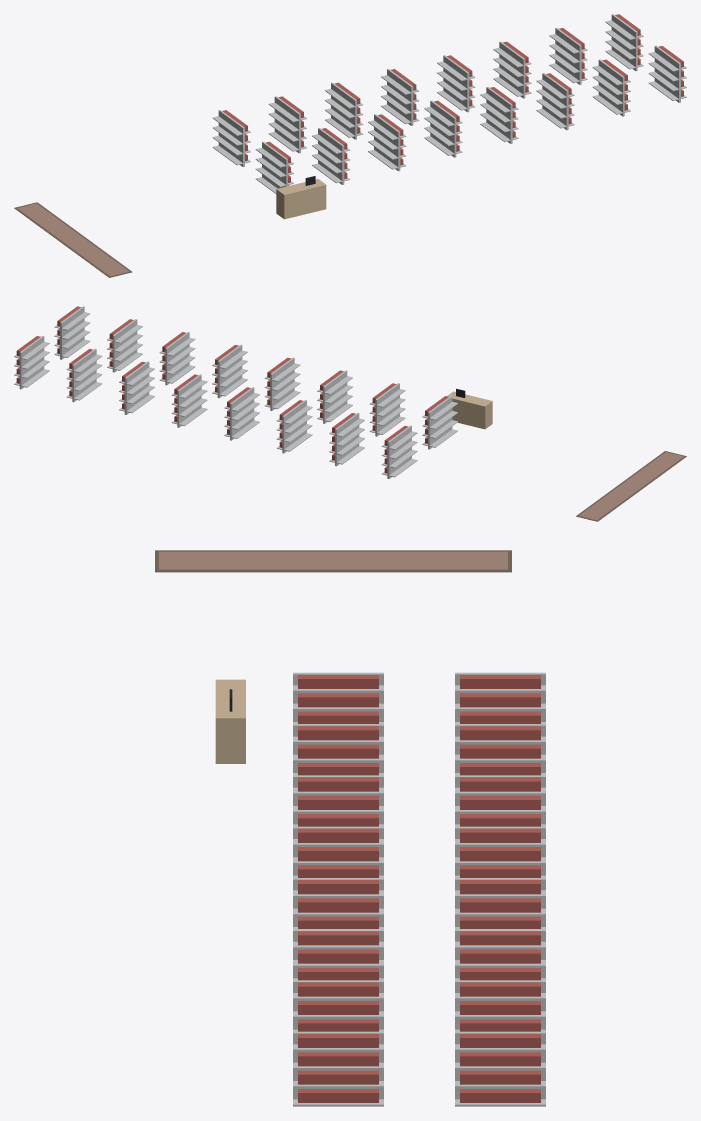
The model's file is fine-s0.glb.
3 renders of one model, top to bottom at view 1: azimuth 30°, elevation 25°; view 2: azimuth 150°, elevation 25°; view 3: azimuth 270°, elevation 25°, orthographic. The views are drawn at different scales.
Parts seen in each view (by area): view 1: soft-s0, shop-counter.000, shelf.014, shelf.007, shelf.010, shelf.005, shelf.011, shelf.008, shelf.013, shelf.002, shelf.004, shelf.009 (+6 smaller); view 2: soft-s0, shelf.013, shelf.014, shelf.008, shelf.007, shelf.000, shelf.003, shelf.004, shelf.012, shelf.001, shelf.015, shelf.002 (+6 smaller); view 3: soft-s0, shelf.014, shelf.015, shelf.000, shelf.001, shelf.002, shelf.003, shelf.004, shelf.005, shelf.006, shelf.007, shelf.010 (+6 smaller).
Part boxes in pixels (x1,y1,x2,y2): soft-s0: (14, 202, 132, 277); shop-counter.000: (276, 176, 326, 219); shelf.014: (605, 14, 643, 71); shelf.007: (424, 100, 462, 157); shelf.010: (493, 41, 531, 98); shelf.005: (368, 114, 406, 171); shelf.011: (536, 73, 574, 130); shelf.008: (437, 55, 475, 112); shelf.013: (592, 59, 630, 116); shelf.002: (268, 96, 306, 153); shelf.004: (325, 82, 363, 139); shelf.009: (480, 87, 518, 143); soft-s0: (576, 451, 686, 521); shelf.013: (107, 319, 142, 372); shelf.014: (14, 336, 49, 389); shelf.008: (171, 374, 207, 427); shelf.007: (264, 357, 300, 410); shelf.000: (381, 425, 417, 478); shelf.003: (369, 383, 405, 436); shelf.004: (276, 400, 312, 453); shelf.012: (66, 348, 102, 402); shelf.001: (422, 396, 457, 449); shelf.015: (54, 306, 90, 359); shelf.002: (329, 412, 364, 466); soft-s0: (155, 550, 511, 572); shelf.014: (455, 1031, 545, 1106); shelf.015: (293, 1031, 383, 1106); shelf.000: (455, 672, 545, 723); shelf.001: (293, 672, 383, 723); shelf.002: (455, 724, 545, 775); shelf.003: (293, 724, 383, 775); shelf.004: (455, 775, 545, 826); shelf.005: (293, 775, 383, 826); shelf.006: (455, 826, 545, 877); shelf.007: (293, 826, 383, 877); shelf.010: (455, 929, 545, 980).
Bounding box in the file's own units: 26.28 × 1.6 × 7.73.
